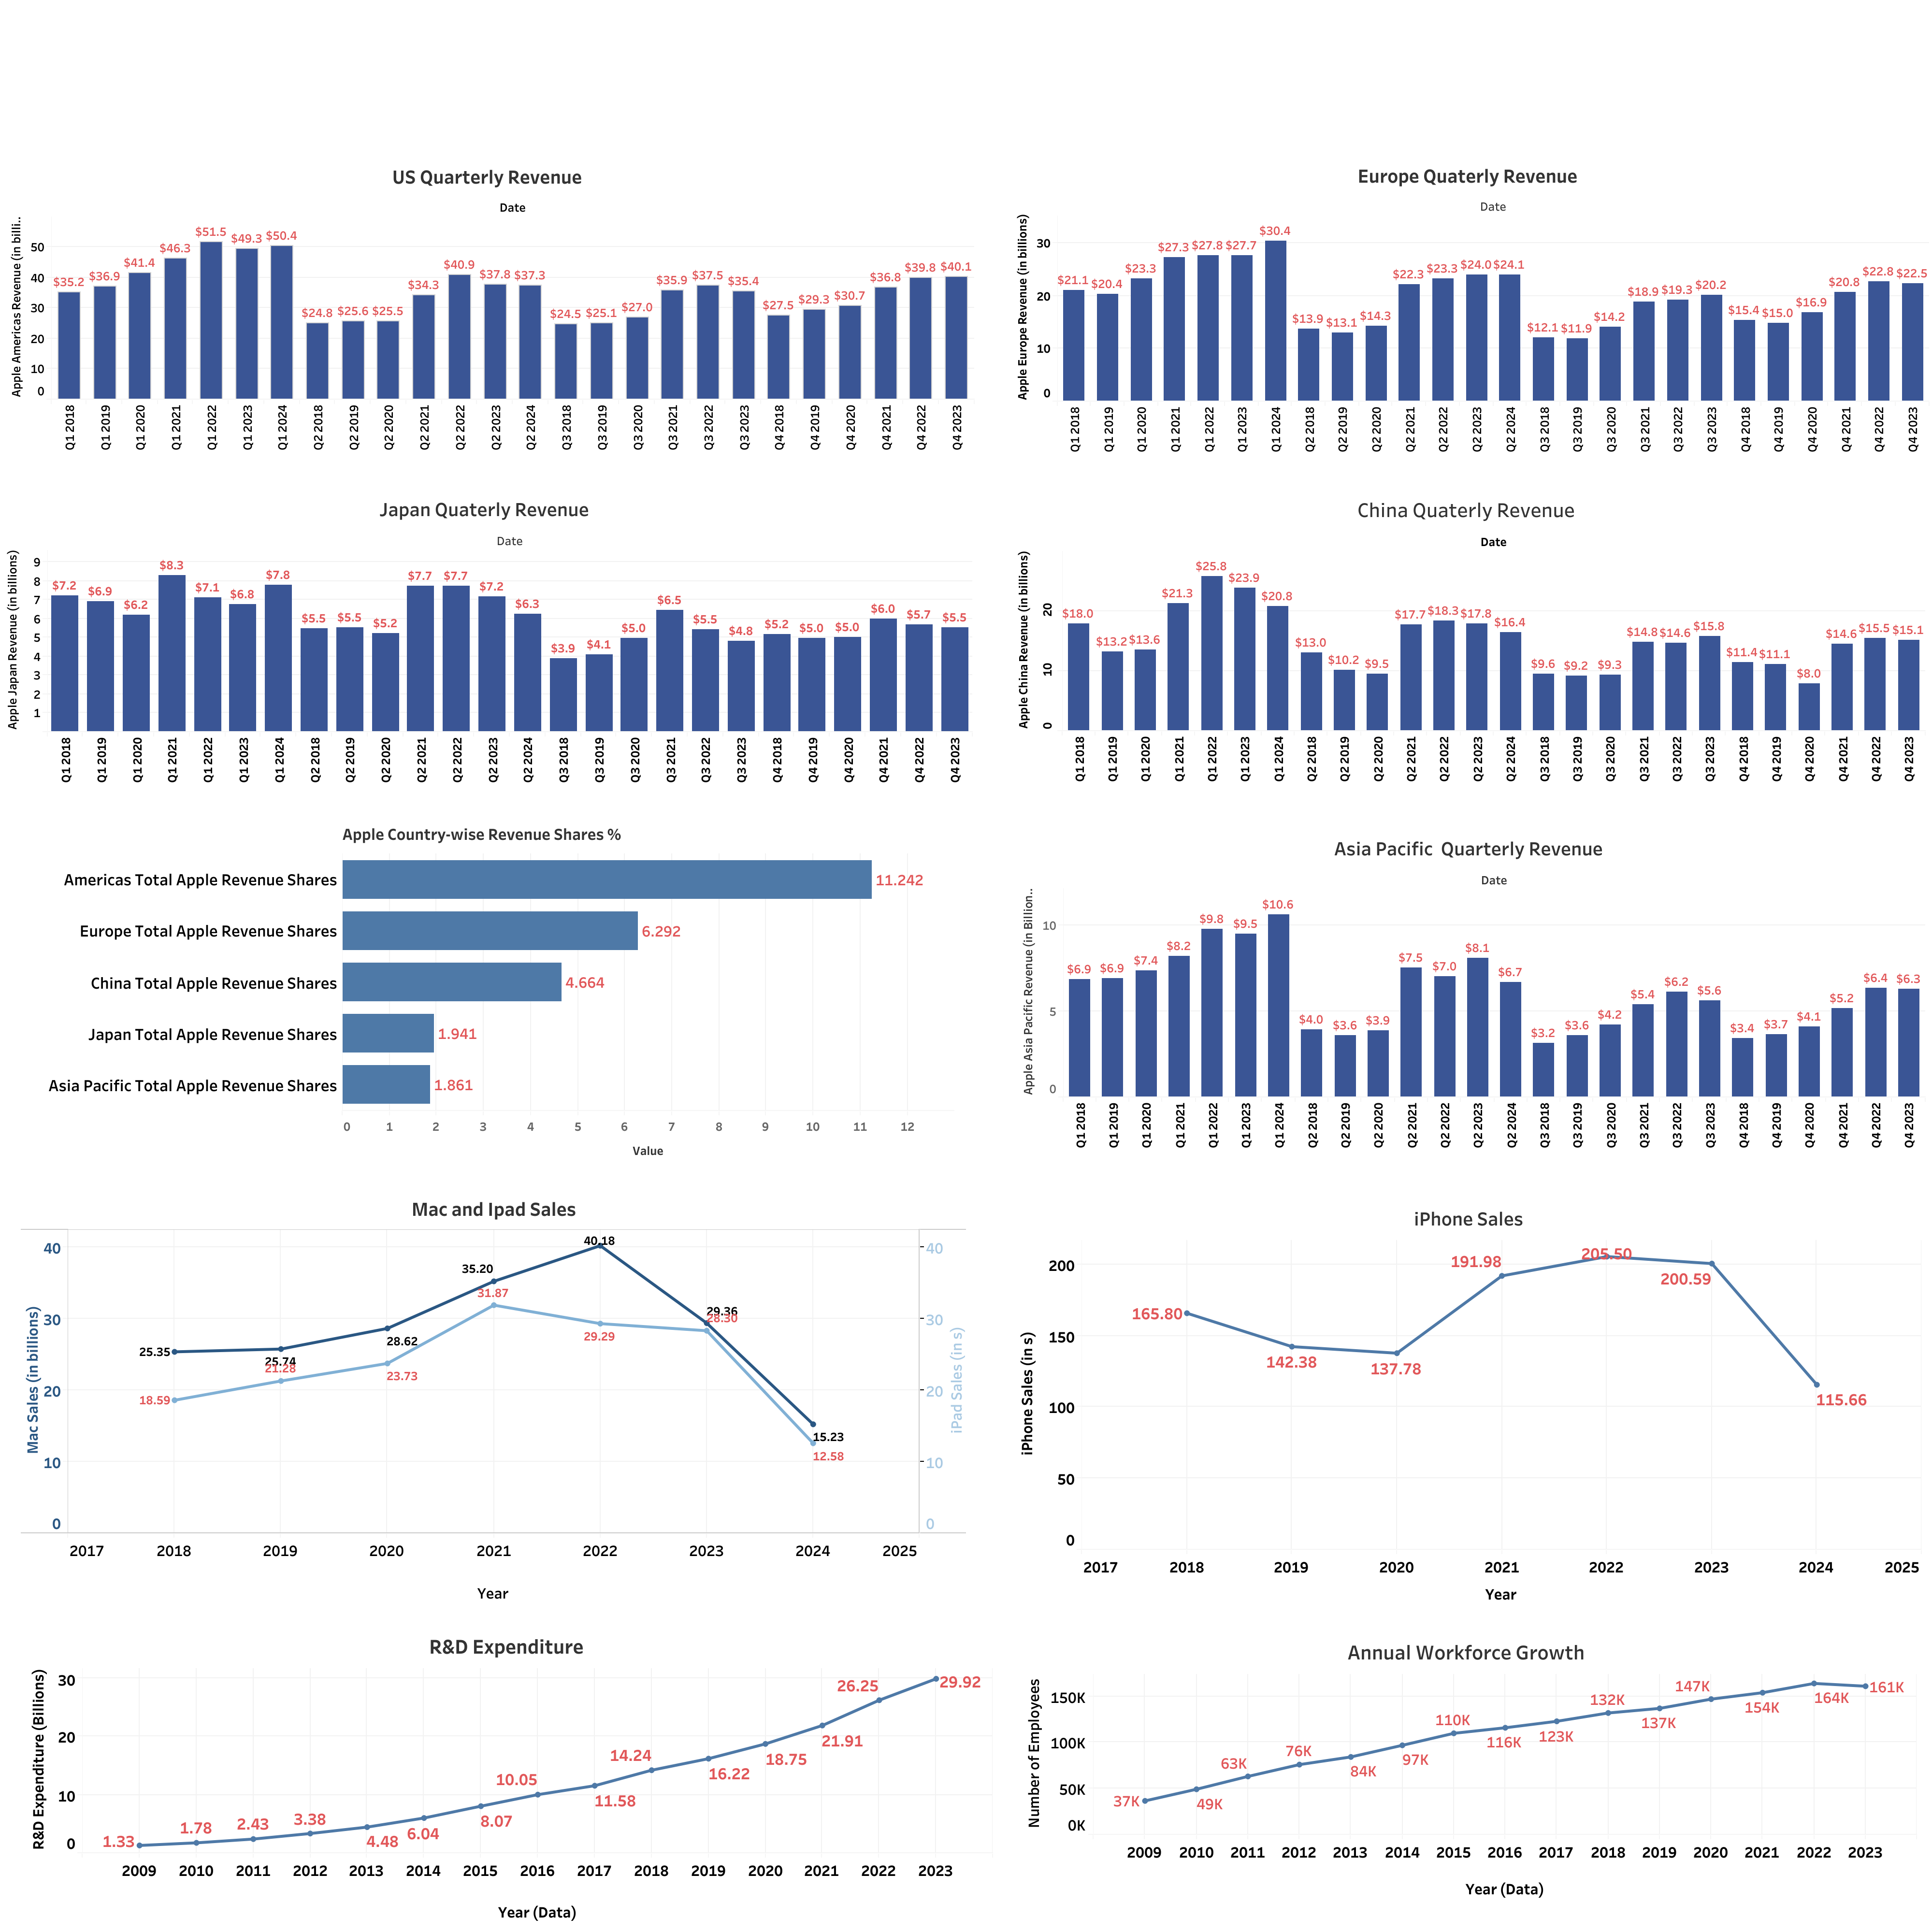

Layout of this report page (visuals, bound fields, positions):
{"tool":"tableau","page":{"name":"Dashboard 1","canvas":[2000,2000],"ordinal":0},"visuals":[{"type":"worksheet","title":"Europe Quaterly Revenue","mark":"Automatic","rows":["Apple Europe Revenue (in s)"],"cols":["Date"],"box":[1041,162,955,332]},{"type":"worksheet","title":"US Quart Rev","mark":"Automatic","rows":["Apple Americas Revenue (in s)"],"cols":["Date"],"box":[0,163,1008,329]},{"type":"worksheet","title":"China Quaterly Revenue","mark":"Automatic","rows":["Apple China Revenue (in s)"],"cols":["Date"],"box":[1042,507,950,326]},{"type":"worksheet","title":"% country-wise","mark":"Automatic","box":[10,845,977,361]},{"type":"worksheet","title":"Asia Pacific Quaterly Revenue","mark":"Automatic","rows":["Apple Asia Pacific Revenue (in s)"],"cols":["Date"],"box":[1047,858,945,352]},{"type":"worksheet","title":"Mac & Ipad","mark":"Automatic","rows":["Mac Sales (in billions)","iPad Sales (in s)"],"cols":["Year"],"box":[22,1231,978,435]},{"type":"worksheet","title":"iphone sales","mark":"Automatic","rows":["iPhone Sales (in s)"],"cols":["Year"],"box":[1051,1241,937,425]},{"type":"worksheet","title":"R&D","mark":"Automatic","rows":["R&D Expenditure (Billions)"],"cols":["Year (Data)"],"box":[21,1683,1006,312]},{"type":"worksheet","title":"Employees","mark":"Automatic","rows":["Number of Employees"],"cols":["Year (Data)"],"box":[1051,1689,932,282]}]}

Visuals, with their boxes in screenshot pixels (x1, y1, x2, y2), scaled from the page's 2000x2000 canvas onto the 1932x1932 screenshot:
"Europe Quaterly Revenue" worksheet: crop(1006, 157, 1928, 477)
"US Quart Rev" worksheet: crop(0, 158, 974, 476)
"China Quaterly Revenue" worksheet: crop(1007, 490, 1924, 805)
"% country-wise" worksheet: crop(10, 816, 953, 1165)
"Asia Pacific Quaterly Revenue" worksheet: crop(1011, 829, 1924, 1169)
"Mac & Ipad" worksheet: crop(21, 1189, 966, 1609)
"iphone sales" worksheet: crop(1015, 1199, 1920, 1609)
"R&D" worksheet: crop(20, 1626, 992, 1927)
"Employees" worksheet: crop(1015, 1631, 1916, 1904)
